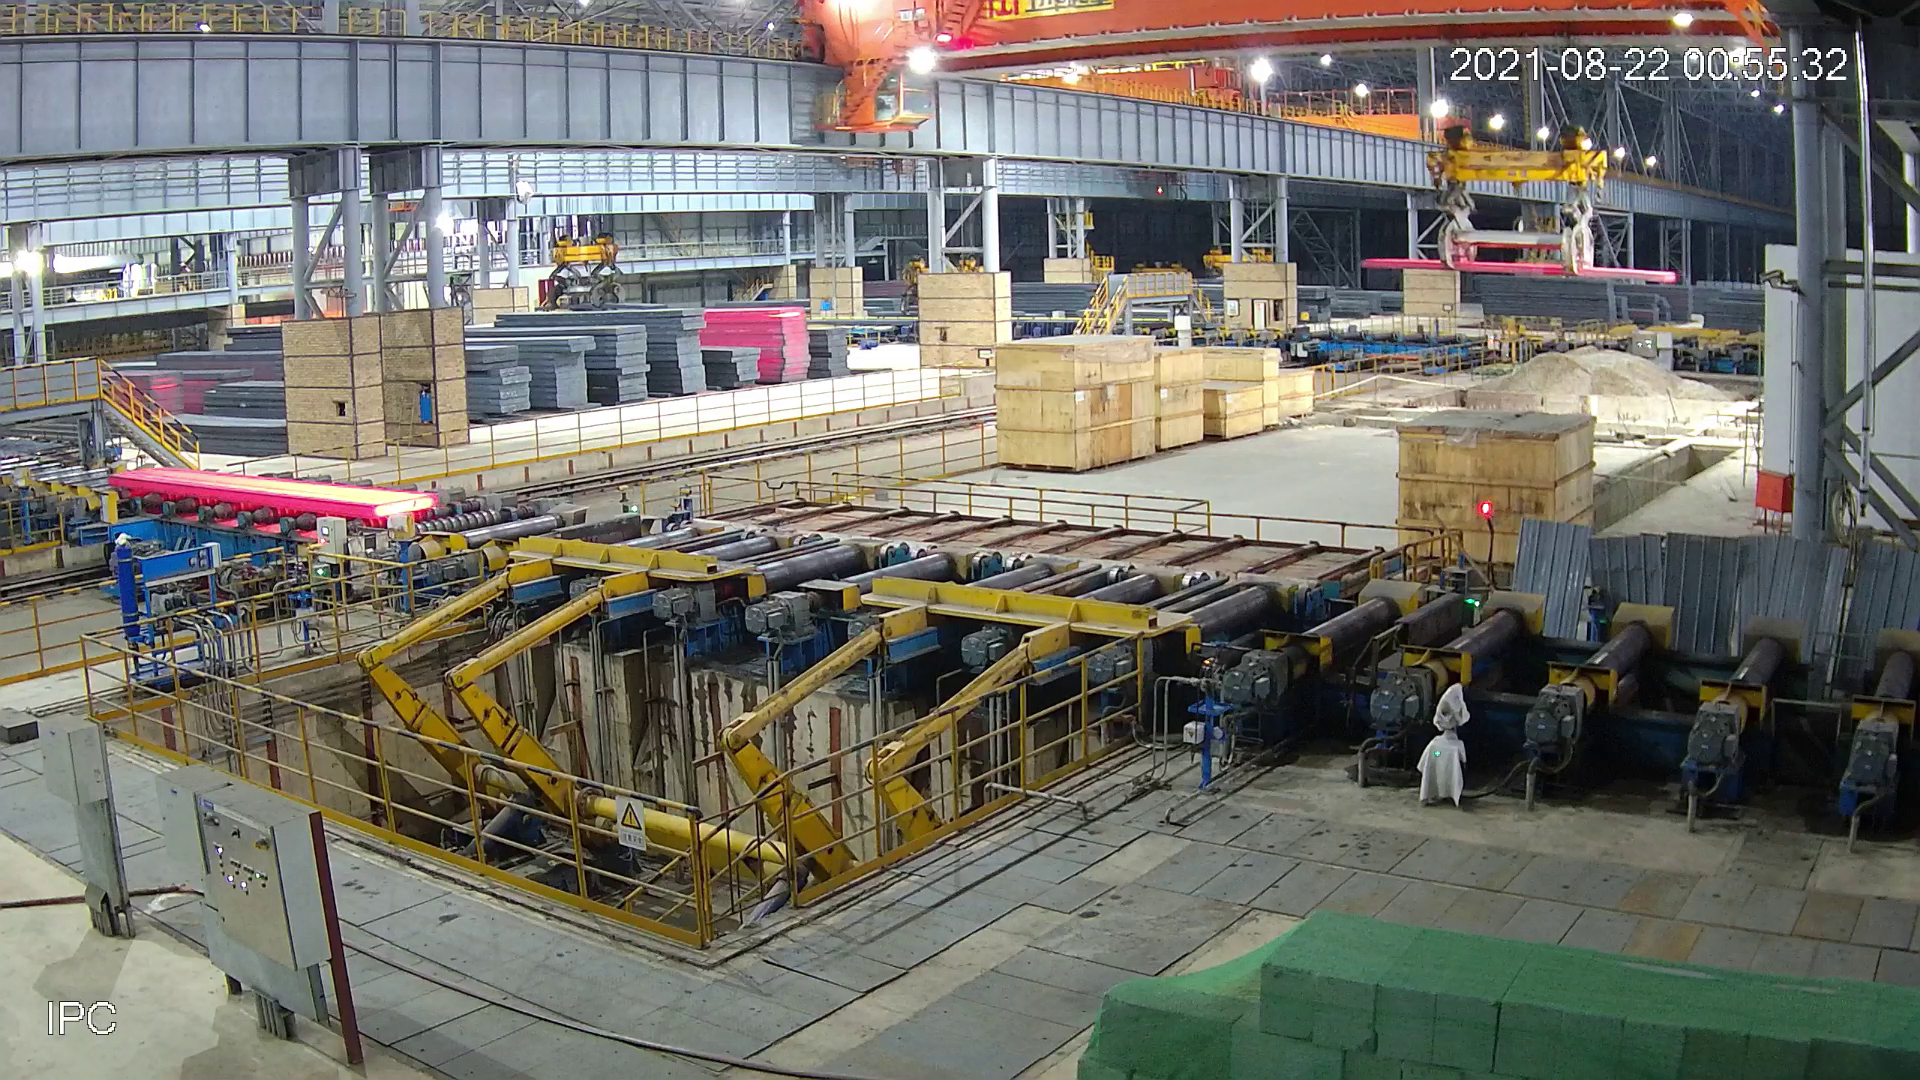craneandslab: (1357, 120, 1681, 293)
slab: (104, 463, 440, 522)
